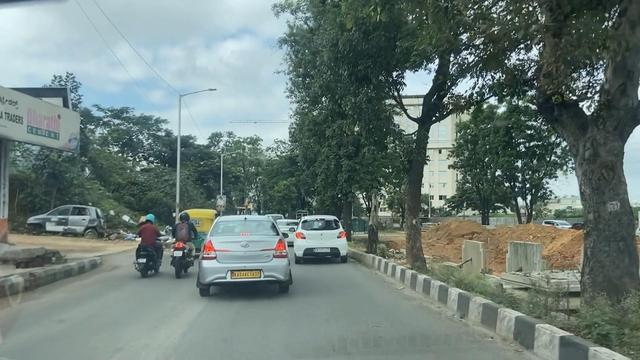LMV: (208, 219, 288, 294), (298, 217, 345, 259), (137, 214, 162, 272), (175, 215, 194, 273)
